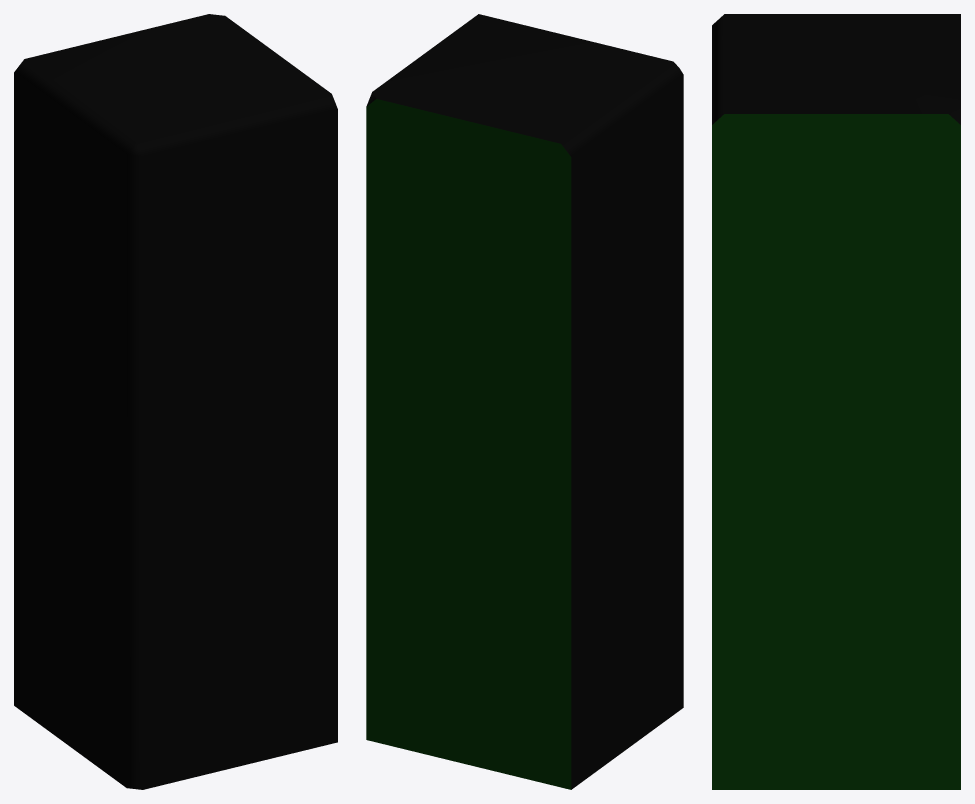
File: DBK_Brick_Top_Corner.fbx
The picture shows the model from 3 angles, left to right: view 1: azimuth 30°, elevation 25°; view 2: azimuth 150°, elevation 25°; view 3: azimuth 270°, elevation 25°; orthographic projection. The views are drawn at different scales.
Parts seen in each view (by area): view 1: DBK_Brick_Top_Corner; view 2: DBK_Brick_Top_Corner; view 3: DBK_Brick_Top_Corner.
Part boxes in pixels (<box>): DBK_Brick_Top_Corner: <box>14,14,337,789</box>; DBK_Brick_Top_Corner: <box>366,14,683,789</box>; DBK_Brick_Top_Corner: <box>712,14,960,789</box>.
Size of the model in its own units: 20 by 60 by 20.
